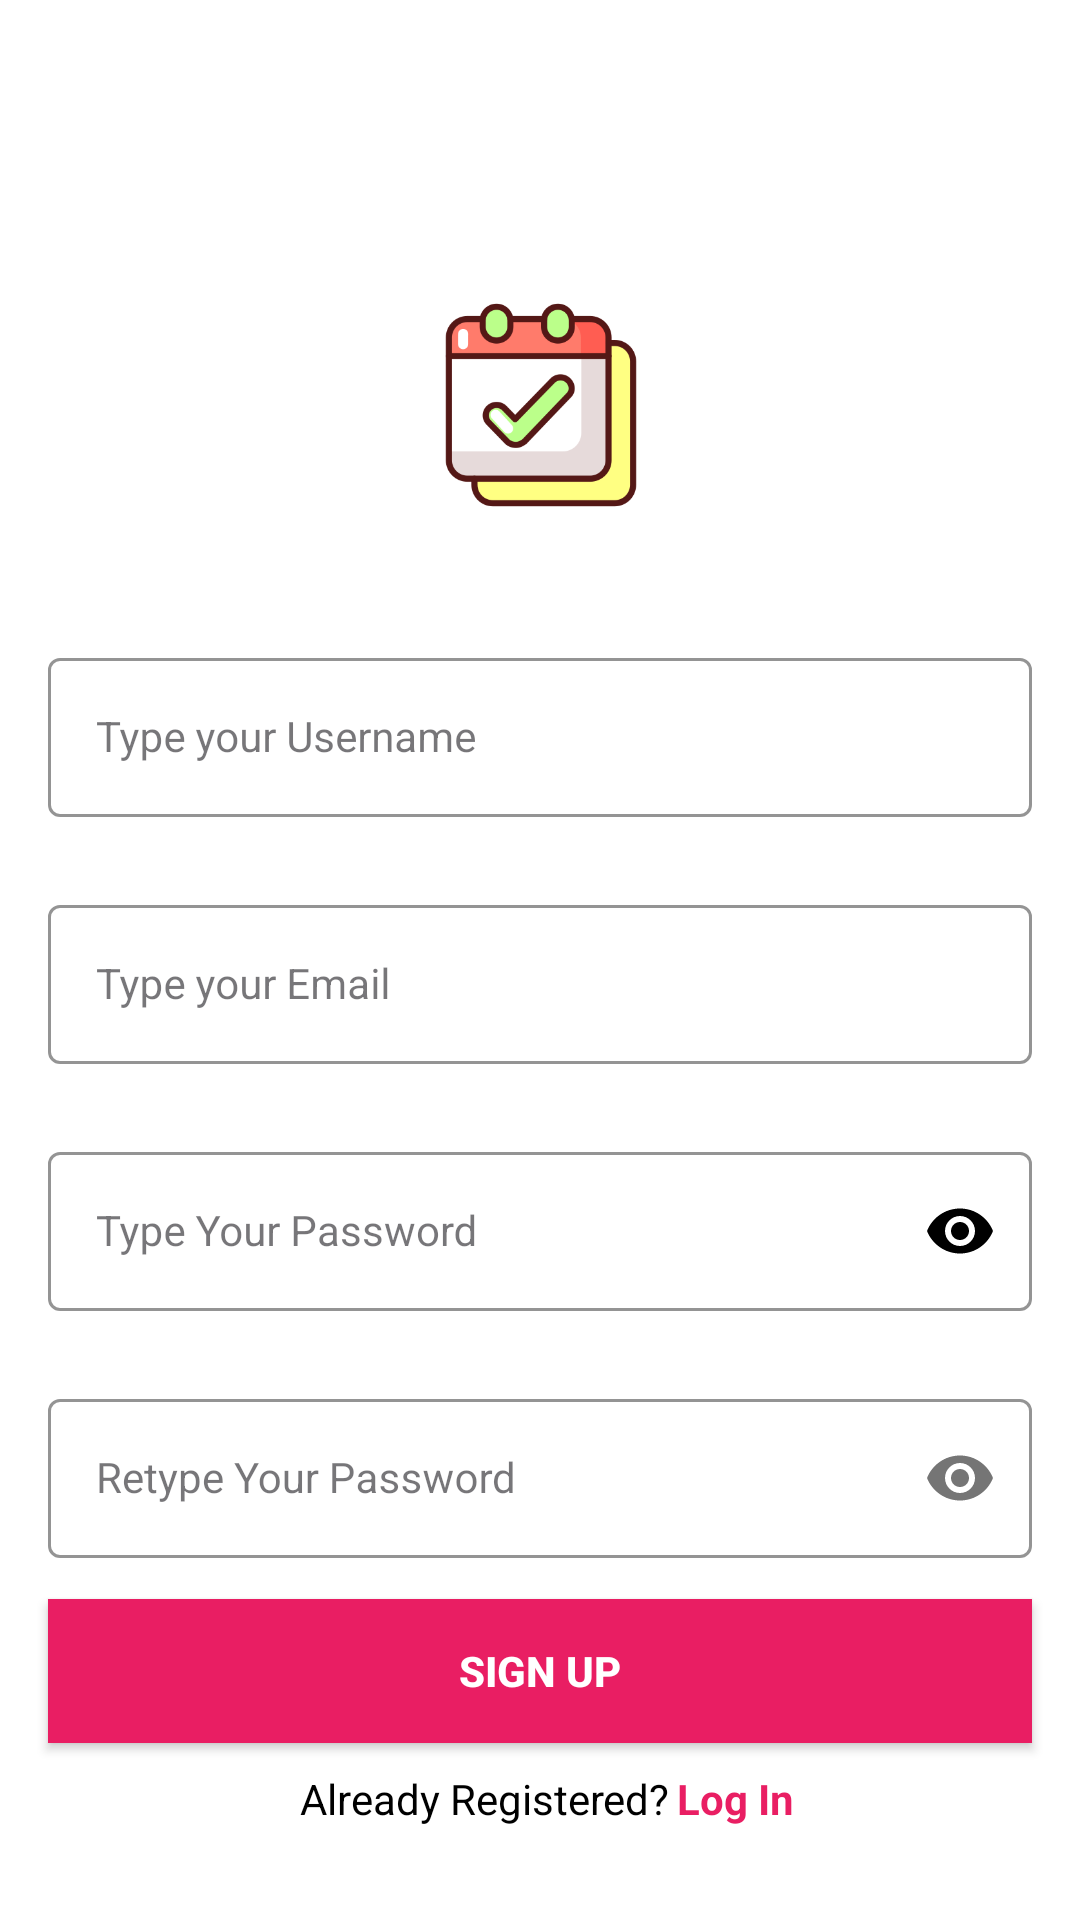

Icon bounding boxes for this 1080px x 1920px phone screenshot, format [x1, y1, x2, y2]:
calendar event: [445, 303, 637, 507]
